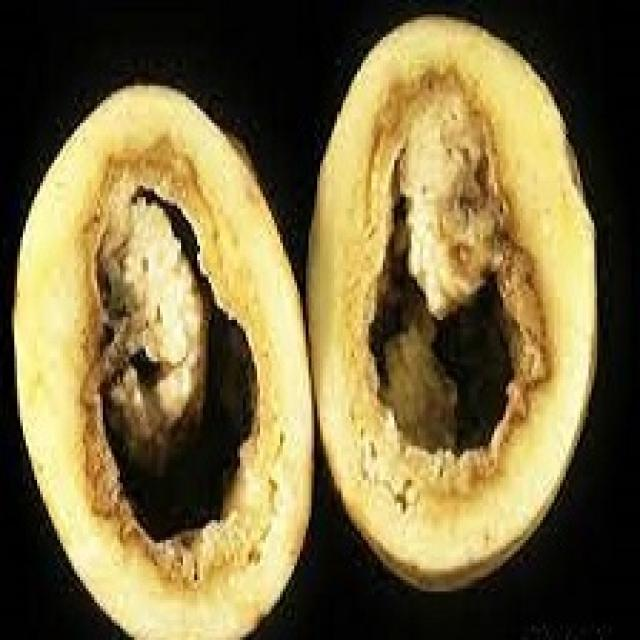blackleg: (304, 0, 614, 598), (3, 77, 320, 640)
